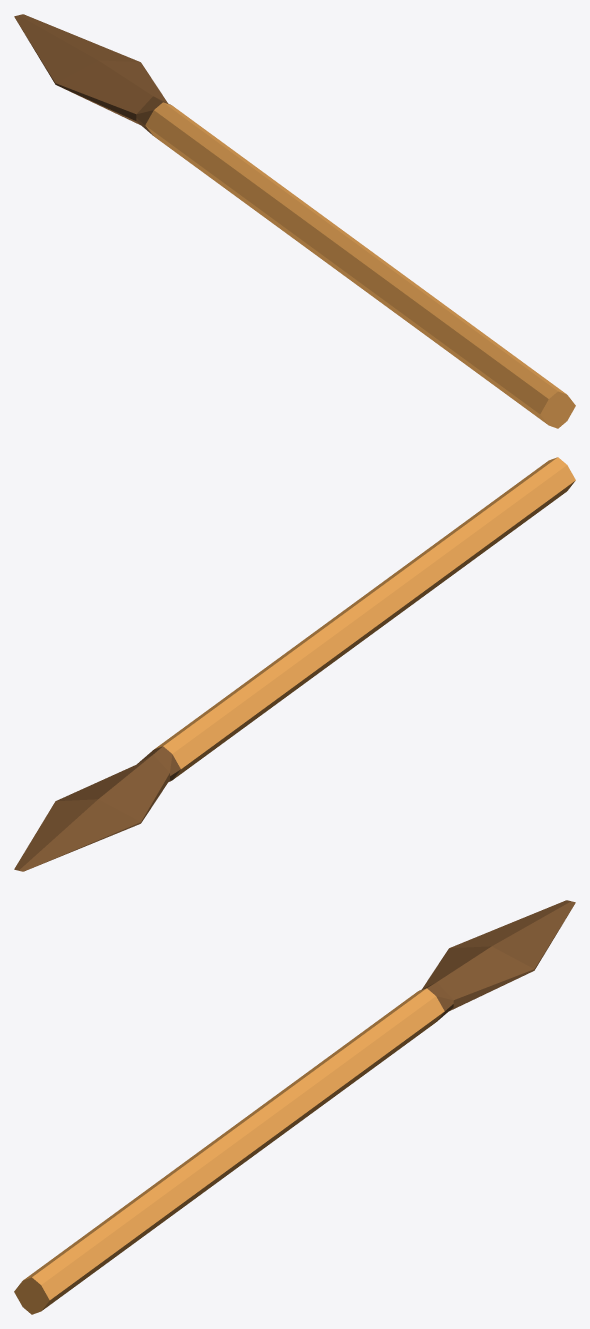
File: bronze_lancehead.glb
The picture shows the model from 3 angles, top to bottom: view 1: azimuth 30°, elevation 25°; view 2: azimuth 150°, elevation 25°; view 3: azimuth 330°, elevation 25°; orthographic projection.
Parts seen in each view (by area): view 1: Cube; view 2: Cube; view 3: Cube.
Part boxes in pixels (bbox=[...]): Cube: bbox=[14, 14, 575, 428]; Cube: bbox=[14, 457, 575, 871]; Cube: bbox=[14, 900, 575, 1314].
Size of the model in its own units: 1.28 by 0.5376 by 14.02.
